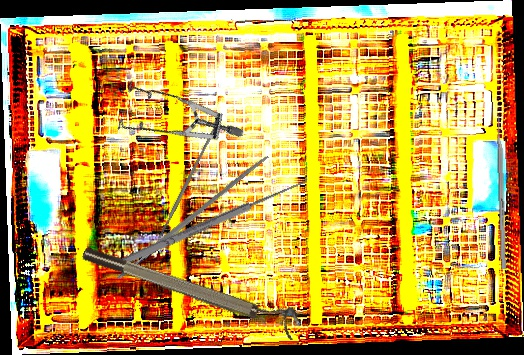Fixation Ring: (80, 233, 303, 341)
Hook Surgical: (115, 167, 311, 269)
Pusher: (495, 104, 507, 270)
Scalpel Handle: (114, 152, 270, 282), (155, 116, 223, 241)
Speculum: (100, 49, 246, 195)
